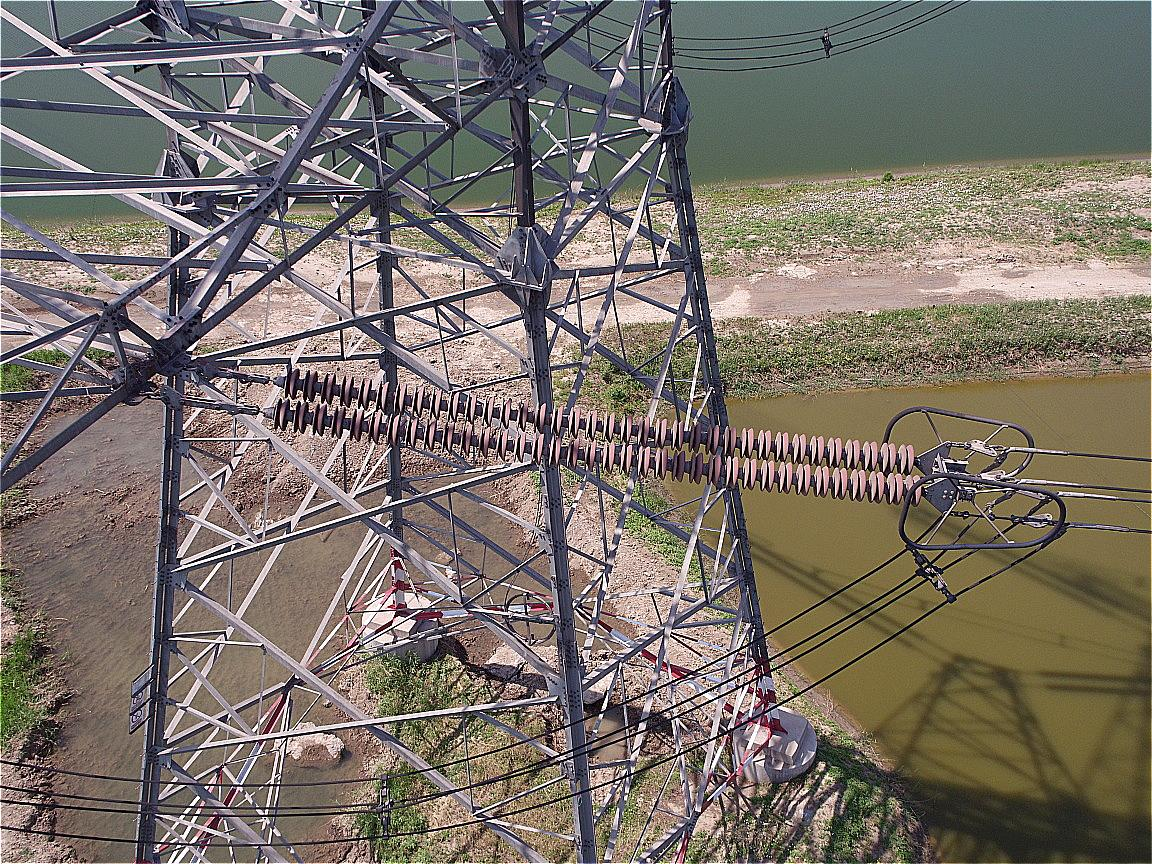insultor2: (266, 358, 944, 512)
